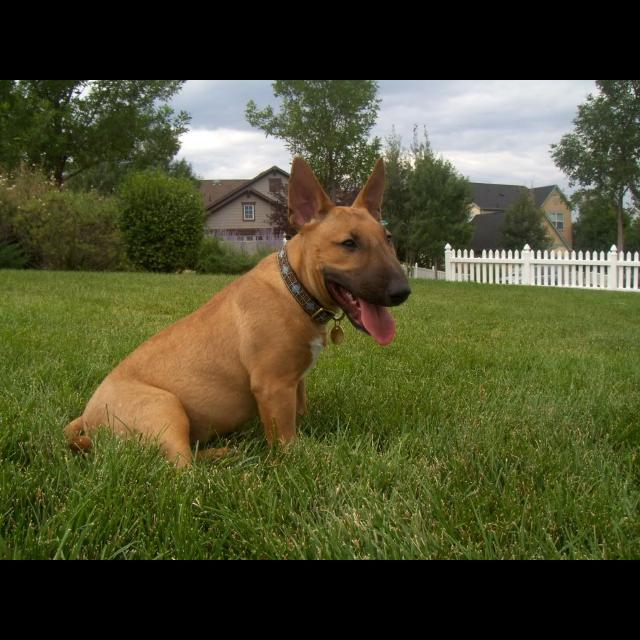bullterrier: (64, 156, 413, 471)
